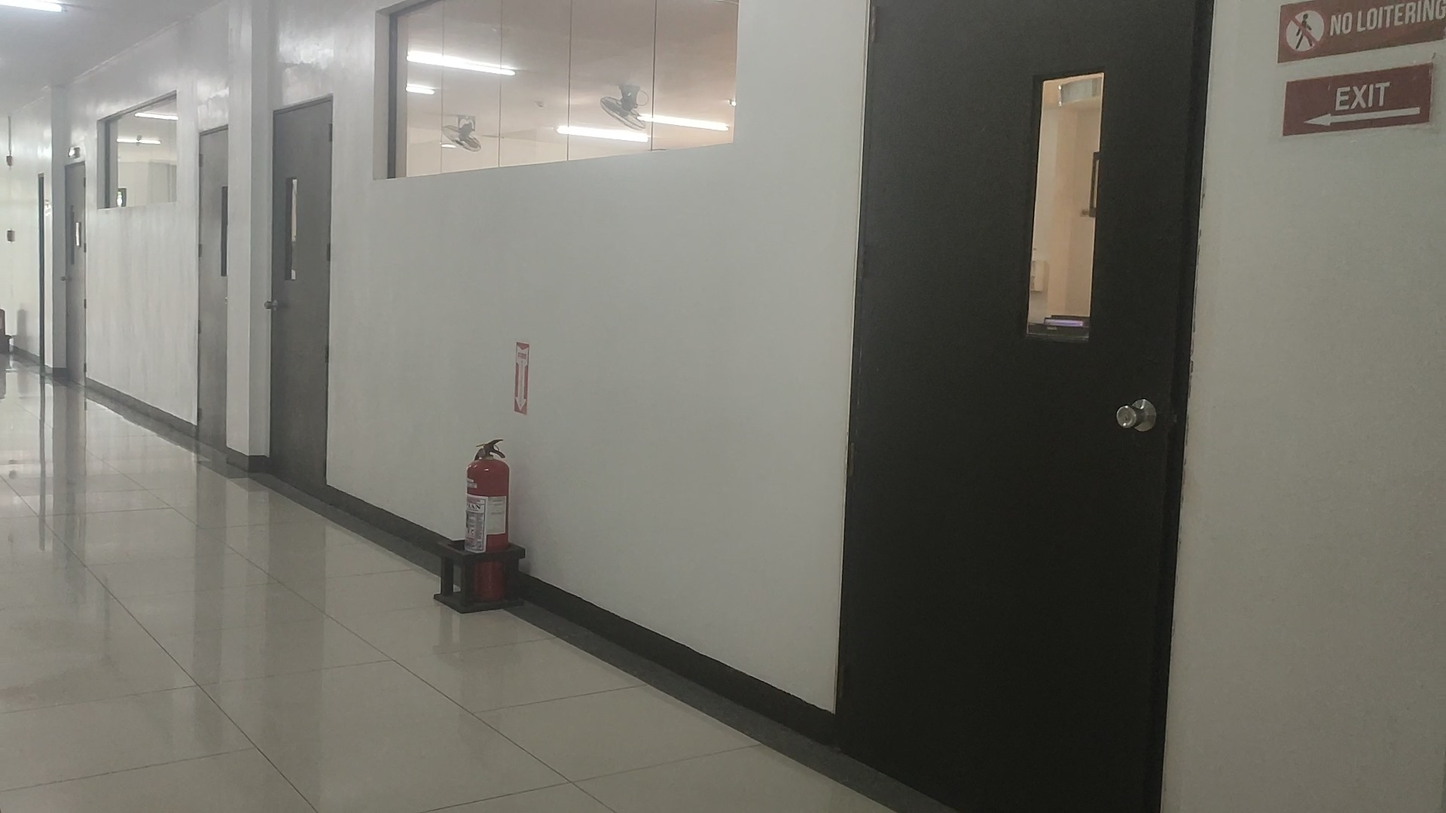door: (826, 0, 1212, 813), (260, 99, 336, 491)
